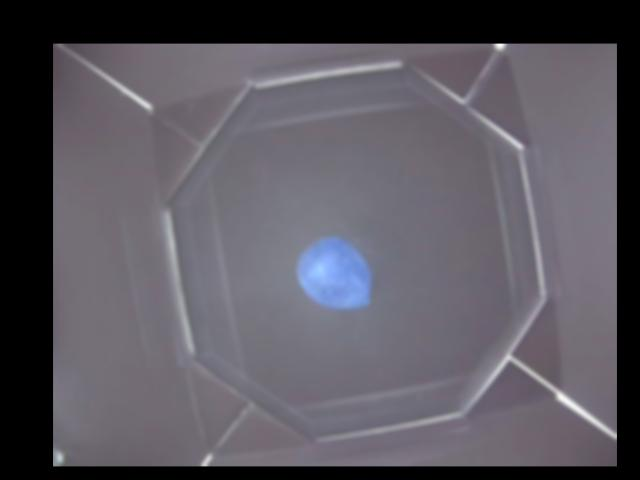Potato: (297, 231, 371, 307)
